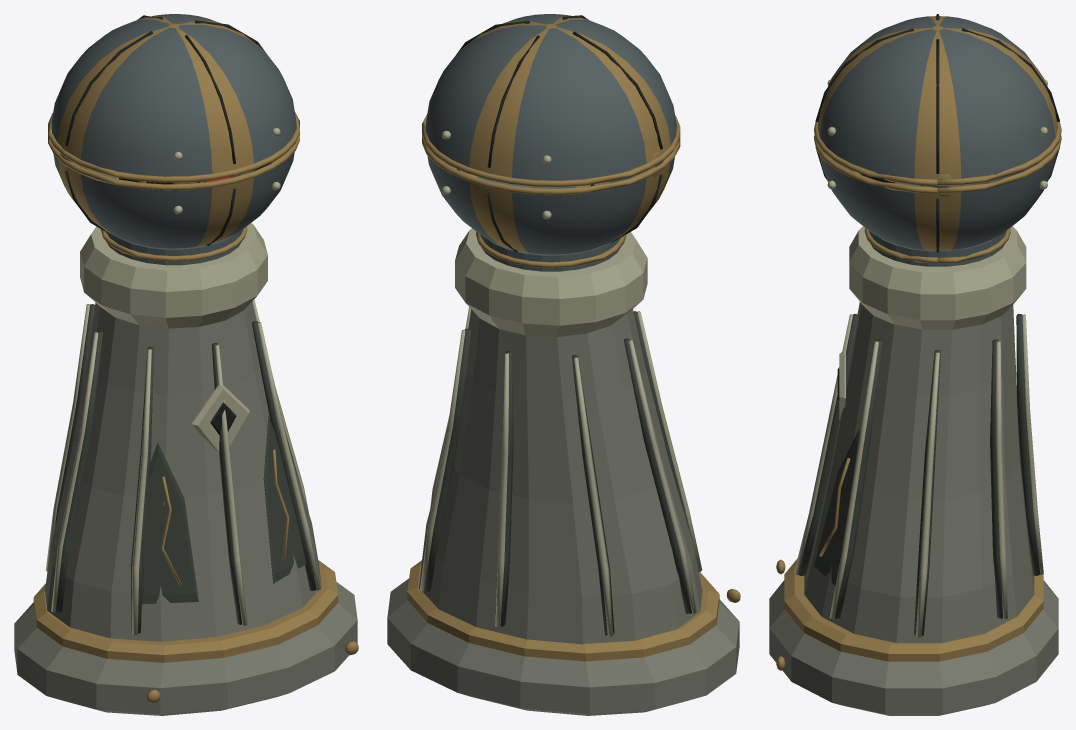
Rendered from beamos.glb.
3 renders of one model, left to right at view 1: azimuth 30°, elevation 25°; view 2: azimuth 150°, elevation 25°; view 3: azimuth 270°, elevation 25°, orthographic. The views are drawn at different scales.
Parts seen in each view (by area): view 1: Beamos.0.10.tapered sentinel pillar, Beamos.0.05.upper shutter shell, Beamos.0.10.worn octagonal foot, Beamos.0.10.upper stone shoulder, Beamos.0.08.lower shutter shell, Beamos.0.10.lower bronze footing, Beamos.0.10.recessed front carving, Beamos.0.10.recessed front carving.001, Beamos.0.10.deep tapered chisel groove.006, Beamos.0.05.shutter bevel, Beamos.0.10.carved pillar arris.007, Beamos.0.08.shutter bevel (+11 smaller); view 2: Beamos.0.10.tapered sentinel pillar, Beamos.0.05.upper shutter shell, Beamos.0.10.worn octagonal foot, Beamos.0.10.upper stone shoulder, Beamos.0.08.lower shutter shell, Beamos.0.10.lower bronze footing, Beamos.0.05.shutter bevel, Beamos.0.10.deep tapered chisel groove.003, Beamos.0.10.deep tapered chisel groove.006, Beamos.0.10.carved pillar arris.005, Beamos.0.08.shutter bevel, Beamos.0.10.carved pillar arris.004 (+8 smaller); view 3: Beamos.0.10.tapered sentinel pillar, Beamos.0.05.upper shutter shell, Beamos.0.10.worn octagonal foot, Beamos.0.10.upper stone shoulder, Beamos.0.08.lower shutter shell, Beamos.0.10.lower bronze footing, Beamos.0.10.recessed front carving.001, Beamos.0.10.deep tapered chisel groove.004, Beamos.0.10.carved pillar arris.002, Beamos.0.05.shutter bevel, Beamos.0.10.deep tapered chisel groove.003, Beamos.0.08.shutter bevel (+10 smaller).
Part boxes in pixels (<box>): Beamos.0.10.tapered sentinel pillar: <box>45,301,321,641</box>; Beamos.0.05.upper shutter shell: <box>51,14,296,176</box>; Beamos.0.10.worn octagonal foot: <box>14,582,357,715</box>; Beamos.0.10.upper stone shoulder: <box>80,223,267,328</box>; Beamos.0.08.lower shutter shell: <box>53,152,294,248</box>; Beamos.0.10.lower bronze footing: <box>33,560,338,662</box>; Beamos.0.10.recessed front carving: <box>141,443,198,604</box>; Beamos.0.10.recessed front carving.001: <box>263,416,306,583</box>; Beamos.0.10.deep tapered chisel groove.006: <box>55,331,103,612</box>; Beamos.0.05.shutter bevel: <box>48,112,299,182</box>; Beamos.0.10.carved pillar arris.007: <box>132,349,151,634</box>; Beamos.0.08.shutter bevel: <box>48,133,299,190</box>; Beamos.0.10.tapered sentinel pillar: <box>419,309,702,644</box>; Beamos.0.05.upper shutter shell: <box>425,14,676,180</box>; Beamos.0.10.worn octagonal foot: <box>387,578,739,715</box>; Beamos.0.10.upper stone shoulder: <box>455,228,647,337</box>; Beamos.0.08.lower shutter shell: <box>427,155,674,254</box>; Beamos.0.10.lower bronze footing: <box>407,560,719,661</box>; Beamos.0.05.shutter bevel: <box>422,114,680,186</box>; Beamos.0.10.deep tapered chisel groove.003: <box>424,328,471,591</box>; Beamos.0.10.deep tapered chisel groove.006: <box>624,338,691,613</box>; Beamos.0.10.carved pillar arris.005: <box>574,357,613,636</box>; Beamos.0.08.shutter bevel: <box>422,136,680,194</box>; Beamos.0.10.carved pillar arris.004: <box>495,353,508,627</box>; Beamos.0.10.tapered sentinel pillar: <box>804,302,1034,642</box>; Beamos.0.05.upper shutter shell: <box>817,16,1057,179</box>; Beamos.0.10.worn octagonal foot: <box>769,580,1058,715</box>; Beamos.0.10.upper stone shoulder: <box>849,226,1026,329</box>; Beamos.0.08.lower shutter shell: <box>820,155,1055,250</box>; Beamos.0.10.lower bronze footing: <box>784,558,1043,661</box>; Beamos.0.10.recessed front carving.001: <box>814,428,862,585</box>; Beamos.0.10.deep tapered chisel groove.004: <box>1016,314,1040,575</box>; Beamos.0.10.carved pillar arris.002: <box>916,352,939,637</box>; Beamos.0.05.shutter bevel: <box>814,121,1061,185</box>; Beamos.0.10.deep tapered chisel groove.003: <box>990,339,1002,618</box>; Beamos.0.08.shutter bevel: <box>814,135,1061,193</box>.
Bounding box in the file's own units: 37.27 × 72.16 × 30.71.
